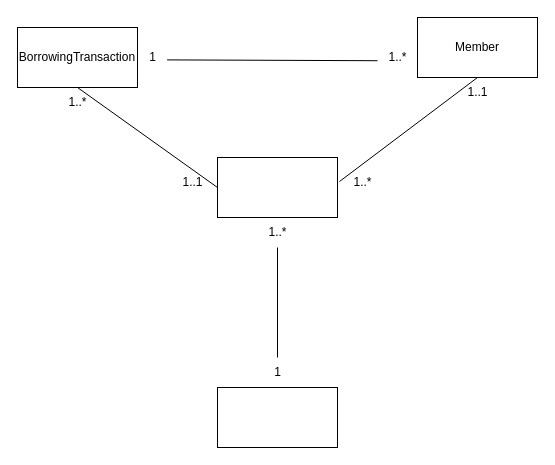
Image size: 555x465. Some labels were removed from this diagram. Here are the shapes that lost their labels. From the top down, the centre of each, then its label:
pixel 277 187: Book
pixel 277 417: Library
